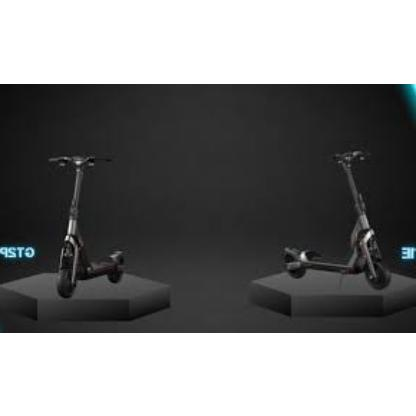bike: (282, 149, 392, 291)
